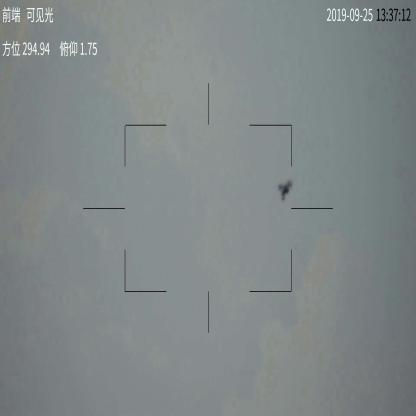uav: (275, 178, 294, 201)
